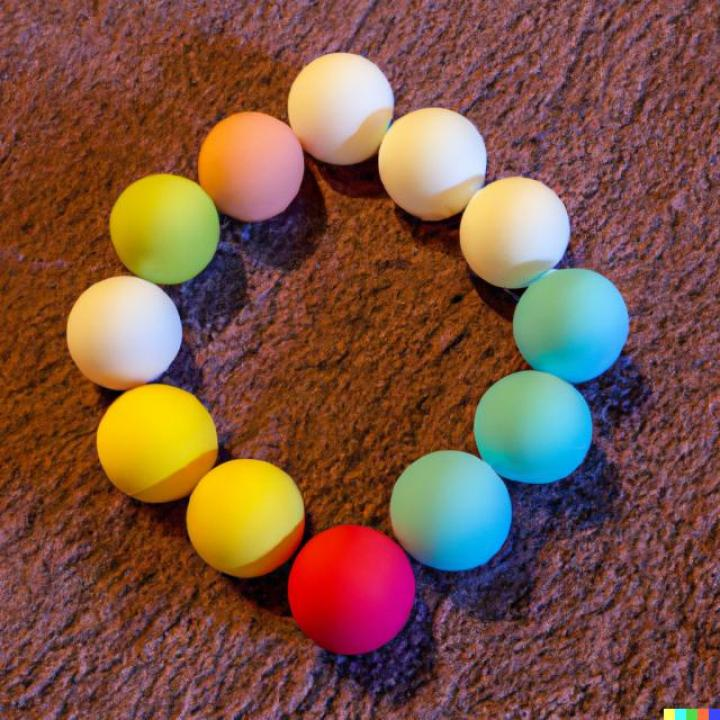white: (66, 278, 183, 386), (288, 52, 395, 164), (380, 109, 487, 219), (463, 178, 570, 286)
